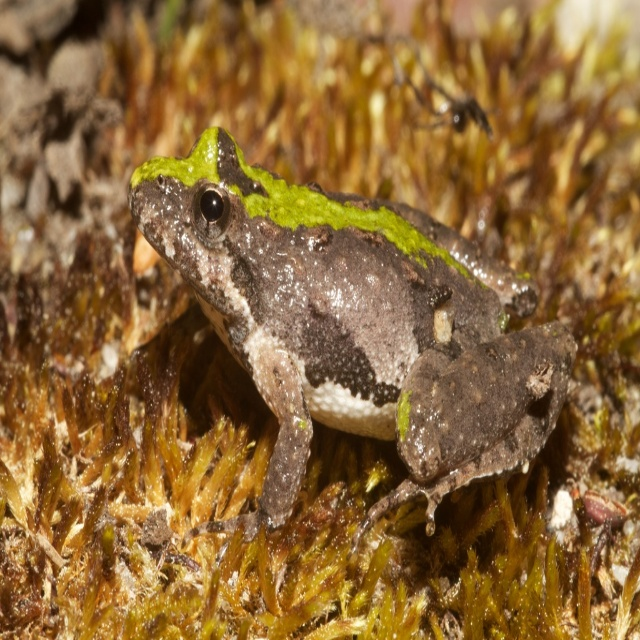Frog: (130, 122, 579, 537)
